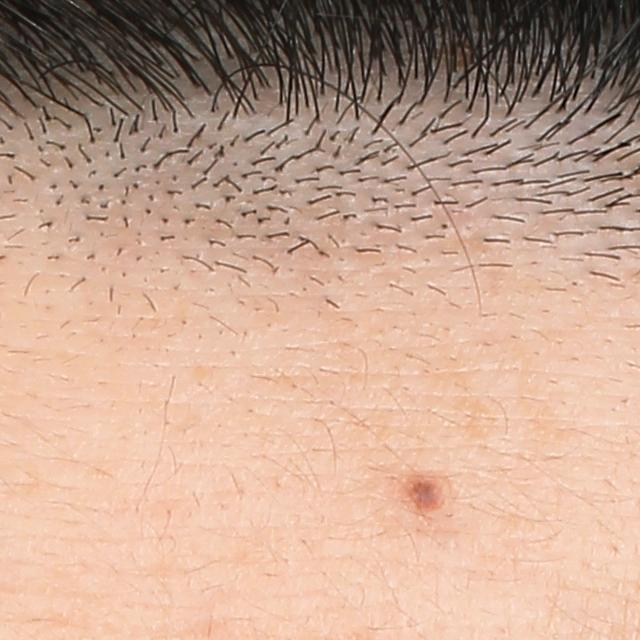nevus: (404, 474, 449, 513)
